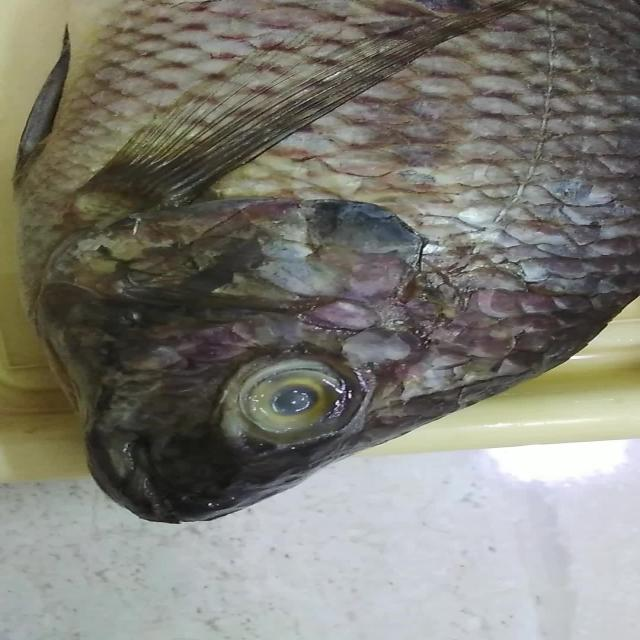Non-Fresh: (56, 3, 596, 324), (210, 350, 373, 450)
